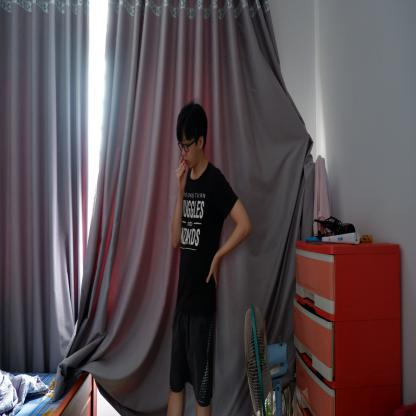cigarette: (174, 165, 184, 173)
person: (167, 100, 252, 415)
